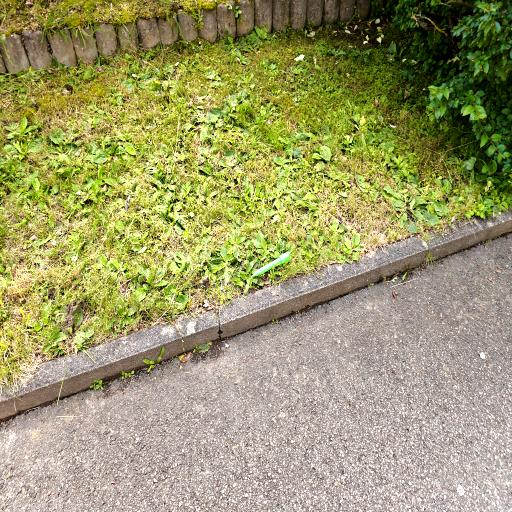Probe-Detection: (251, 252, 290, 277)
